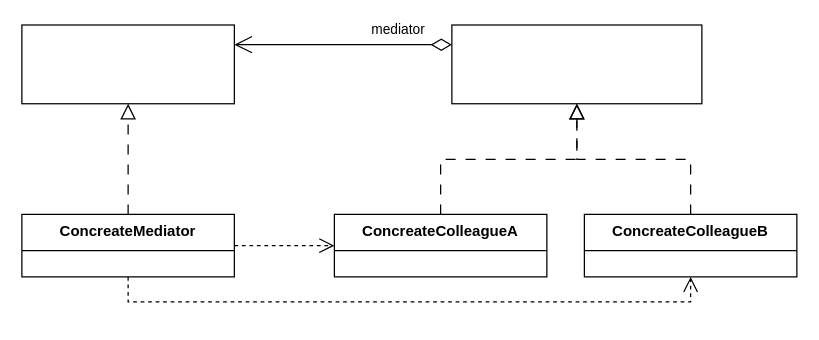
Image size: 819x340. Some labels were removed from this diagram. Here are the shapes that lost their labels. From the top down, the box of each, then its label:
(21, 24, 234, 104): <<Interface>> Mediator
(451, 24, 702, 104): <<Interface>> Colleague
